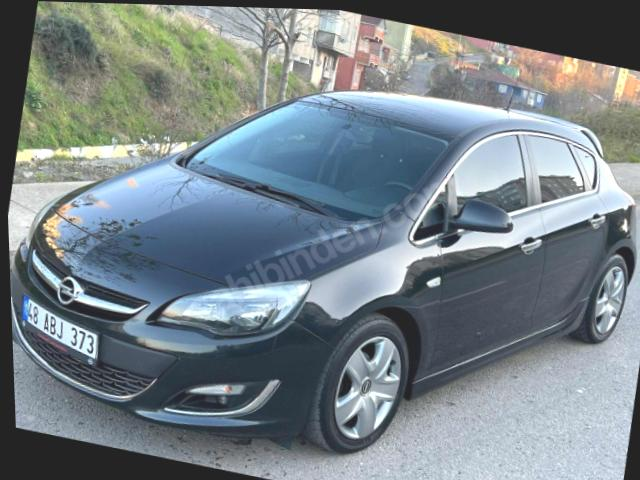plaka: (21, 296, 97, 359)
